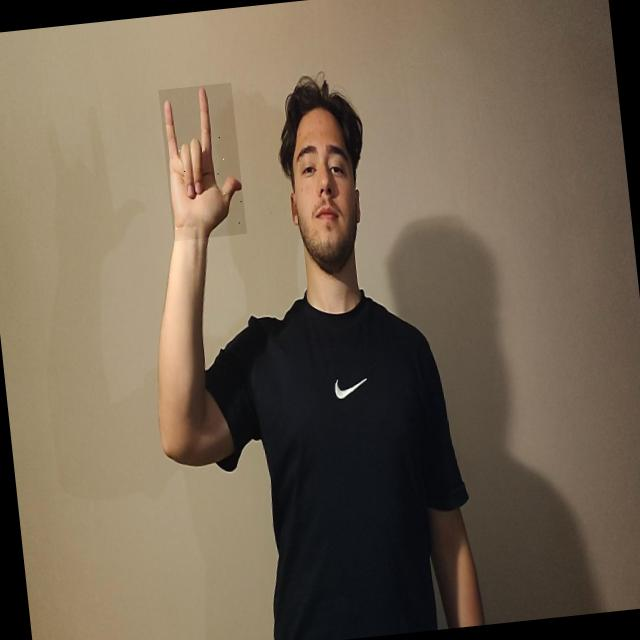iloveyou: (158, 82, 247, 241)
